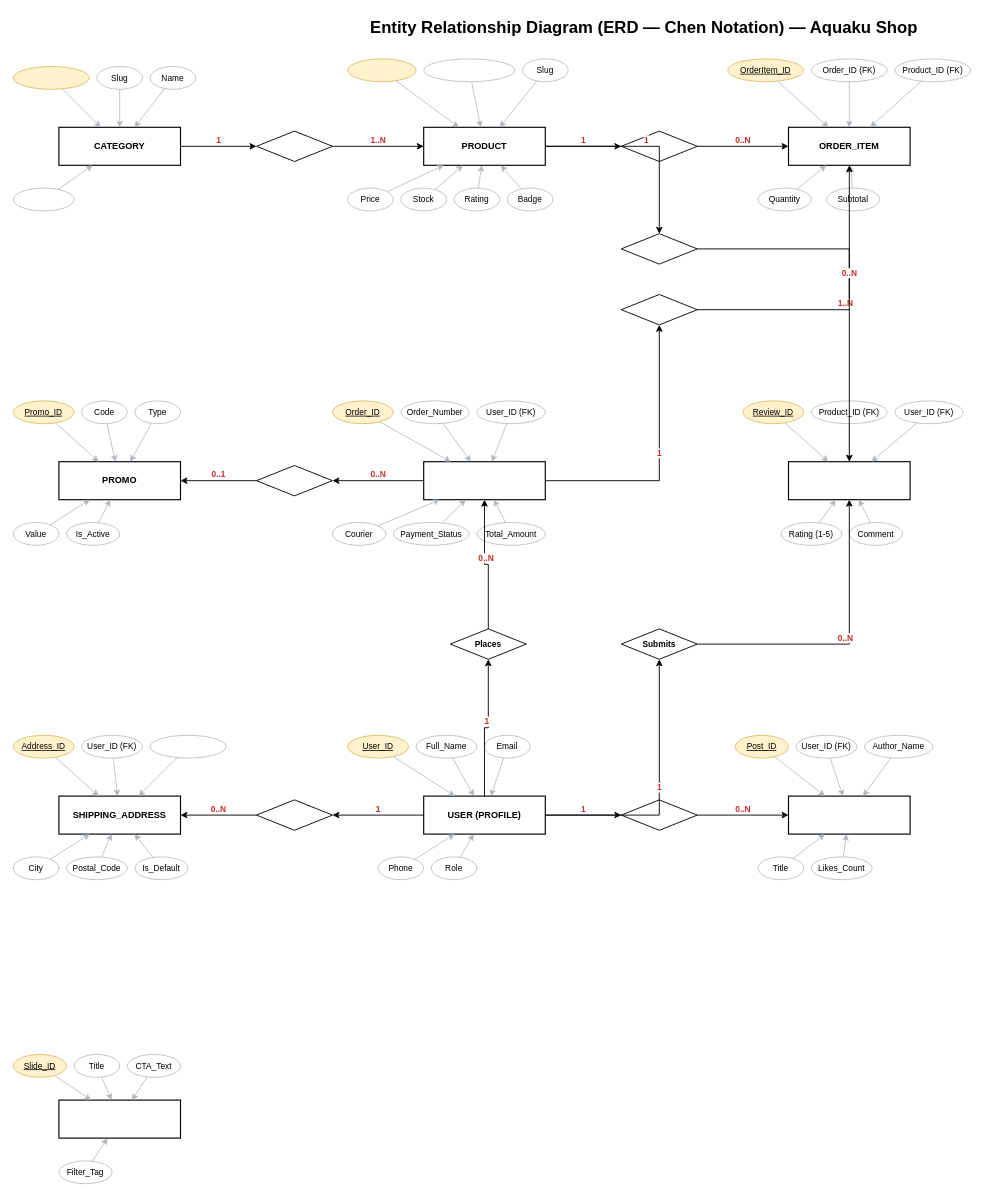
The diagram is 984 pixels wide and 1197 high, and some of its shapes have lost their labels. The shapes that lost their labels are listed below. From the top down, each one's centre as x and y in pixels, then its label:
At pixel 51 77: "Category_ID".
At pixel 381 70: "Product_ID".
At pixel 469 70: "Category_Slug (FK)".
At pixel 294 146: "Categorizes".
At pixel 658 146: "References".
At pixel 43 199: "Created_At".
At pixel 658 248: "Evaluates".
At pixel 658 309: "Contains".
At pixel 294 480: "Applies".
At pixel 484 480: "ORDER".
At pixel 849 480: "REVIEW".
At pixel 187 746: "Recipient_Name".
At pixel 294 814: "Owns".
At pixel 658 814: "Shares".
At pixel 849 814: "GALLERY_POST".
At pixel 119 1118: "HERO_SLIDE".
